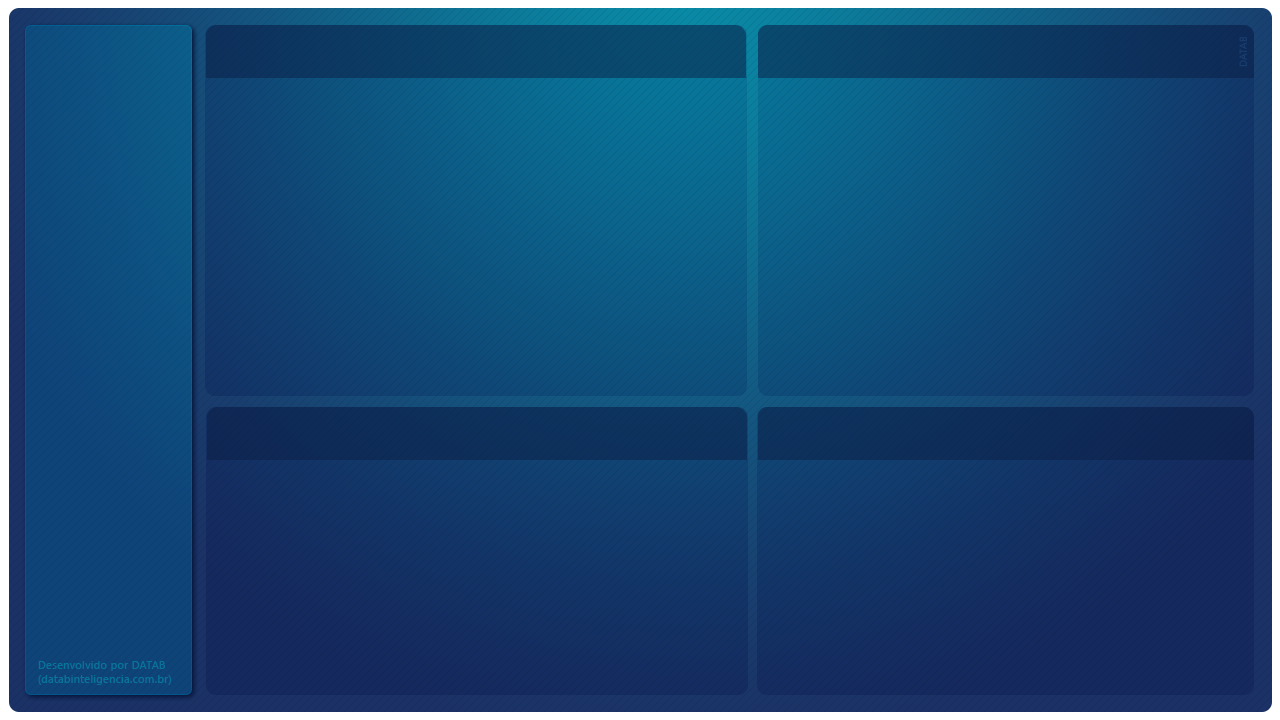

What the dashboard file says about the page in this screenshot:
{"tool":"powerbi","page":{"name":"TOP 50 de filmes","canvas":[1280,720],"ordinal":0},"visuals":[{"type":"tableEx","fields":{"Values":["TOP 50 Bilheterias Files.Título","TOP 50 Bilheterias Files.Ano","TOP 50 Bilheterias Files.Arrecadação"]},"box":[241.4,520.7,497.6,191.2],"z":0},{"type":"textbox","box":[89.7,156.3,111.4,50.3],"z":5},{"type":"textbox","box":[46.2,31.3,1148.2,78.8],"z":6},{"type":"image","box":[21.7,13.6,150.8,112.8],"z":7},{"type":"image","box":[1096.6,13.6,153.5,101.9],"z":8},{"type":"image","box":[2.7,150.8,107.3,62.5],"z":9},{"type":"columnChart","title":"Títulos e arrecadação por ano","fields":{"Category":["TOP 50 Bilheterias Files.Título"],"Y":["CountNonNull(TOP 50 Bilheterias Files.Título)"],"Series":["TOP 50 Bilheterias Files.Ano"]},"box":[225.6,126.4,1054.4,404.9],"z":1000},{"type":"slicer","fields":{"Values":["TOP 50 Bilheterias Files.Título"]},"box":[20.3,206.1,180.3,240],"z":2000},{"type":"slicer","fields":{"Values":["TOP 50 Bilheterias Files.Ano"]},"box":[20.3,456.9,180.3,214.2],"z":3000}]}

Visuals, with their boxes in screenshot pixels (x1, y1, x2, y2), scaled from the page's 1280x720 canvas onto the 1280x720 screenshot:
tableEx - TOP 50 Bilheterias Files.Título x TOP 50 Bilheterias Files.Ano: {"left": 241, "top": 521, "right": 739, "bottom": 712}
textbox: {"left": 90, "top": 156, "right": 201, "bottom": 207}
textbox: {"left": 46, "top": 31, "right": 1194, "bottom": 110}
image: {"left": 22, "top": 14, "right": 172, "bottom": 126}
image: {"left": 1097, "top": 14, "right": 1250, "bottom": 116}
image: {"left": 3, "top": 151, "right": 110, "bottom": 213}
"Títulos e arrecadação por ano" columnChart: {"left": 226, "top": 126, "right": 1279, "bottom": 531}
slicer - TOP 50 Bilheterias Files.Título: {"left": 20, "top": 206, "right": 201, "bottom": 446}
slicer - TOP 50 Bilheterias Files.Ano: {"left": 20, "top": 457, "right": 201, "bottom": 671}
